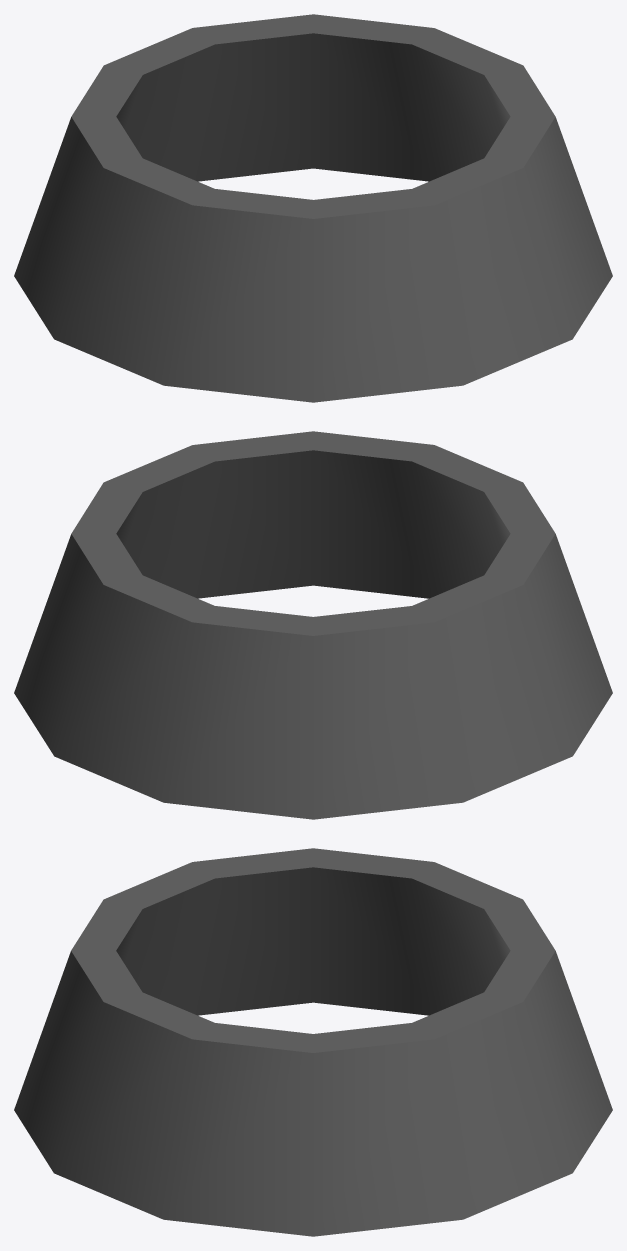
Rendered from space_station_decoration_002.fbx.
The picture shows the model from 3 angles, top to bottom: view 1: azimuth 30°, elevation 25°; view 2: azimuth 150°, elevation 25°; view 3: azimuth 270°, elevation 25°; orthographic projection.
Parts seen in each view (by area): view 1: space_station_decoration_002; view 2: space_station_decoration_002; view 3: space_station_decoration_002.
Boxes of the visible parts, x1,y1,x2,y2 form: space_station_decoration_002: [14, 14, 612, 402]; space_station_decoration_002: [14, 431, 612, 819]; space_station_decoration_002: [14, 848, 612, 1236].
Bounding box in the file's own units: 298 × 298 × 87.52.
